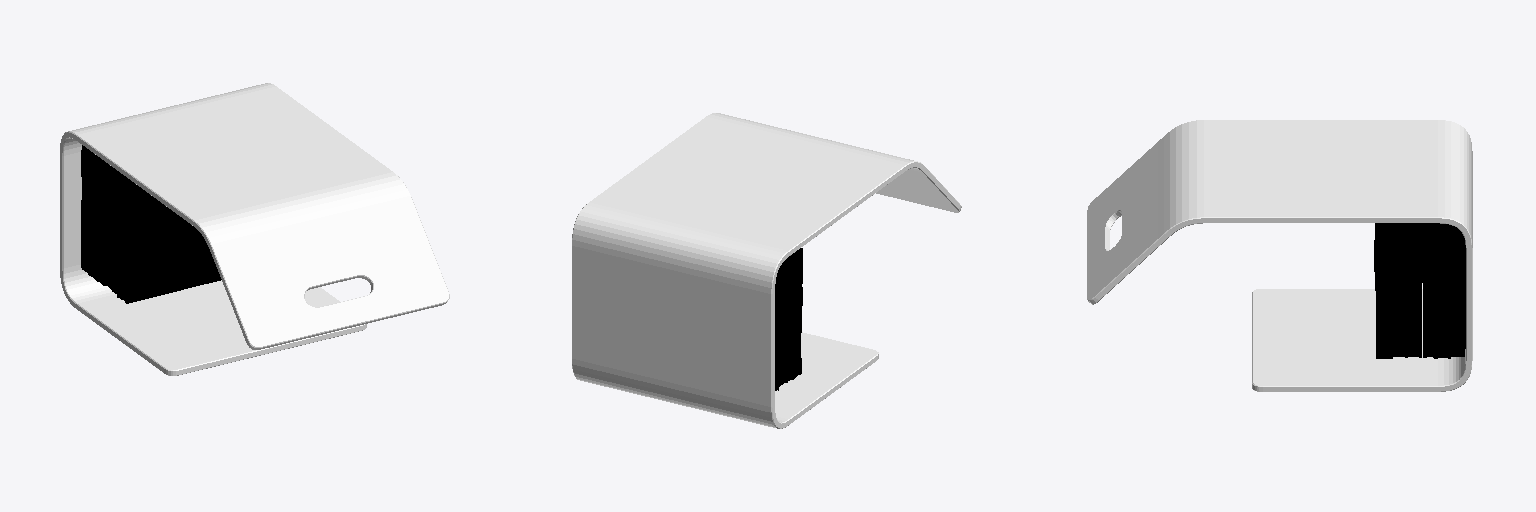
Rendered from Artek_Kanto_Rack_m_mat(4).obj.
3 renders of one model, left to right at view 1: azimuth 30°, elevation 25°; view 2: azimuth 150°, elevation 25°; view 3: azimuth 270°, elevation 25°, orthographic.
Visible parts, largest first — view 1: Artek_Kanto_Rack_m_mat4_02, Artek_Kanto_Rack_m_mat4_01; view 2: Artek_Kanto_Rack_m_mat4_02, Artek_Kanto_Rack_m_mat4_01; view 3: Artek_Kanto_Rack_m_mat4_02, Artek_Kanto_Rack_m_mat4_01.
Part boxes in pixels (x1,y1,x2,y2): Artek_Kanto_Rack_m_mat4_02: (60, 83, 449, 375); Artek_Kanto_Rack_m_mat4_01: (81, 145, 221, 303); Artek_Kanto_Rack_m_mat4_02: (572, 113, 961, 428); Artek_Kanto_Rack_m_mat4_01: (775, 248, 802, 390); Artek_Kanto_Rack_m_mat4_02: (1087, 120, 1472, 391); Artek_Kanto_Rack_m_mat4_01: (1374, 223, 1465, 358).
Size of the model in its own units: 34 by 28.3 by 56.5.